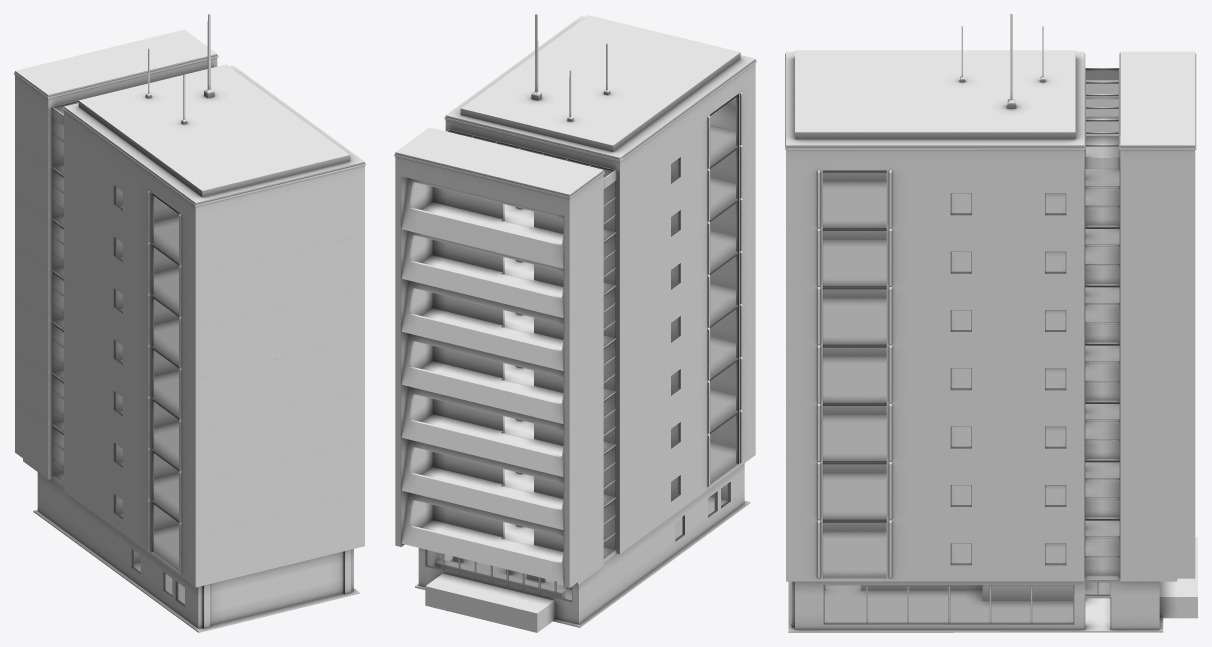
The model's file is residential_004.obj.
3 views of the same model, side by side, from view 1: azimuth 30°, elevation 25°; view 2: azimuth 150°, elevation 25°; view 3: azimuth 270°, elevation 25° (orthographic). The views are drawn at different scales.
Parts seen in each view (by area): view 1: Residential_Buildings_004_Cube.009; view 2: Residential_Buildings_004_Cube.009; view 3: Residential_Buildings_004_Cube.009.
Part boxes in pixels (<box>): Residential_Buildings_004_Cube.009: <box>14,14,365,632</box>; Residential_Buildings_004_Cube.009: <box>394,14,756,632</box>; Residential_Buildings_004_Cube.009: <box>785,14,1197,632</box>.
Size of the model in its own units: 12.59 by 36.39 by 23.1.
Materials: 2 (1 with a texture image).
